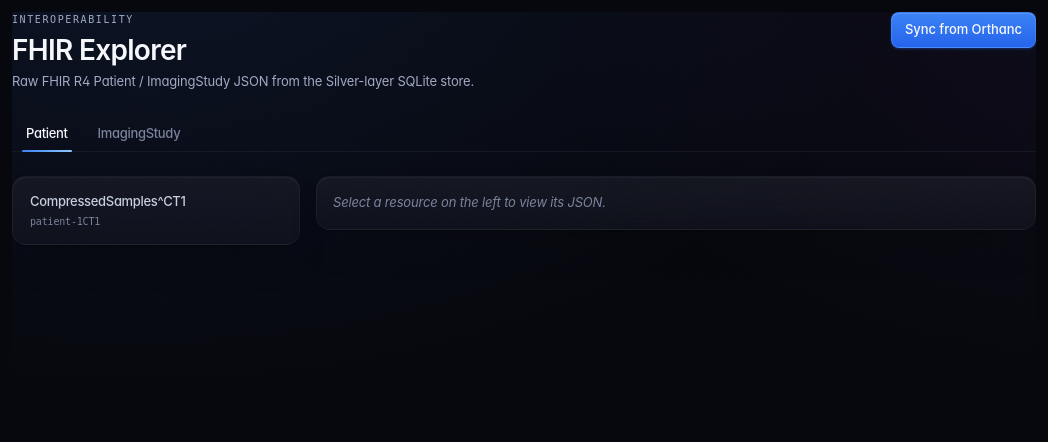
FhirExplorer page › lists Patient resources and renders the raw JSON on click
Click the button "CompressedSamples^CT1 patient-1CT1". click: click(156, 210)
box: [19,183,293,238]
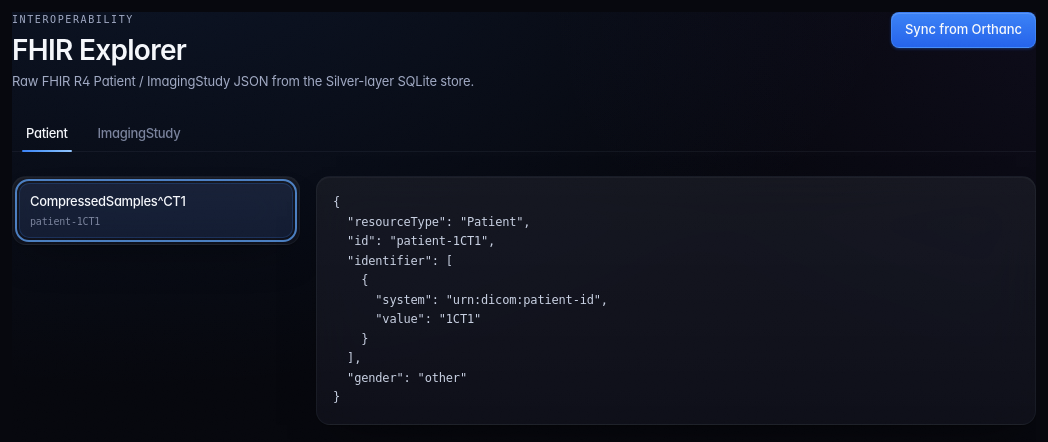
Expected: the text "\"urn:dicom:patient-id\"" is shown, [333,195,608,404]
